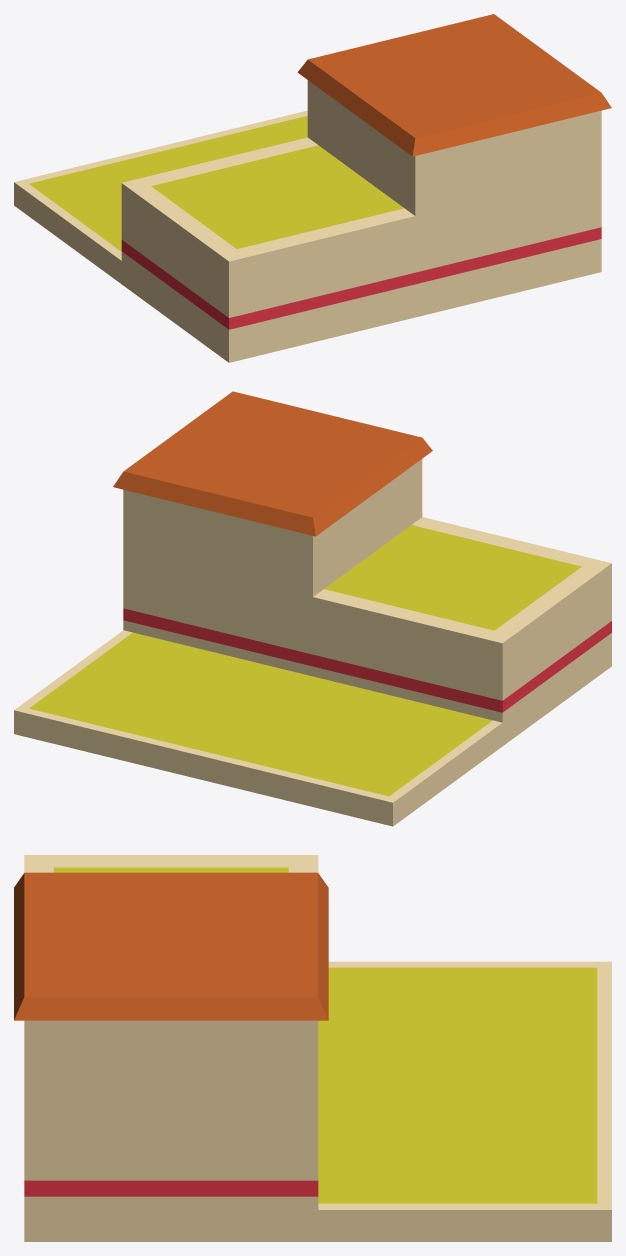
The model's file is House_13.fbx.
3 views of the same model, one above another, from view 1: azimuth 30°, elevation 25°; view 2: azimuth 150°, elevation 25°; view 3: azimuth 270°, elevation 25° (orthographic). The views are drawn at different scales.
Parts seen in each view (by area): view 1: House_13; view 2: House_13; view 3: House_13.
Part boxes in pixels (x1,y1,x2,y2): House_13: (14,14,611,362); House_13: (14,391,611,826); House_13: (14,855,611,1241).
Bounding box in the file's own units: 254 × 115 × 254.
